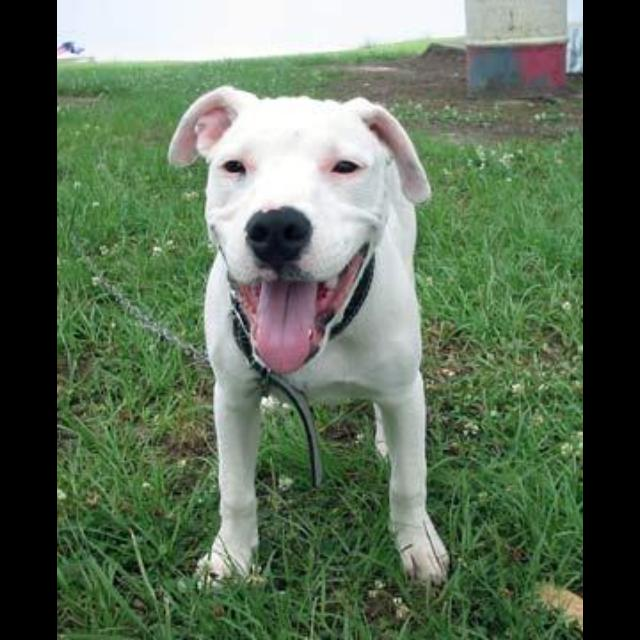amstaff: (167, 85, 453, 595)
